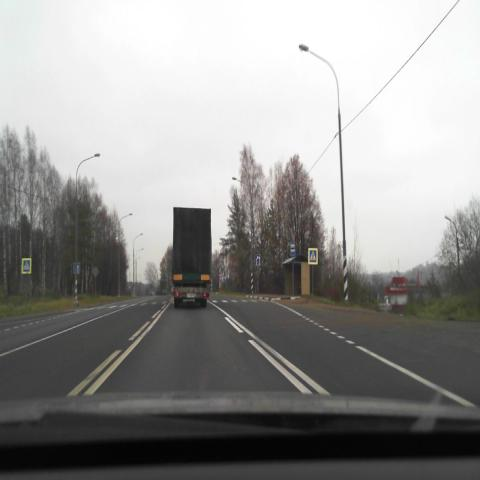5_19_1: (308, 248, 318, 265), (21, 257, 31, 274)
